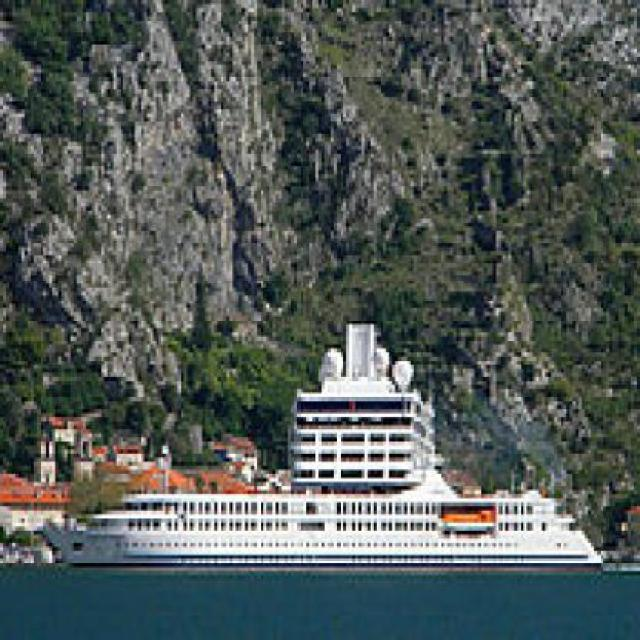cruise: (51, 313, 614, 580)
